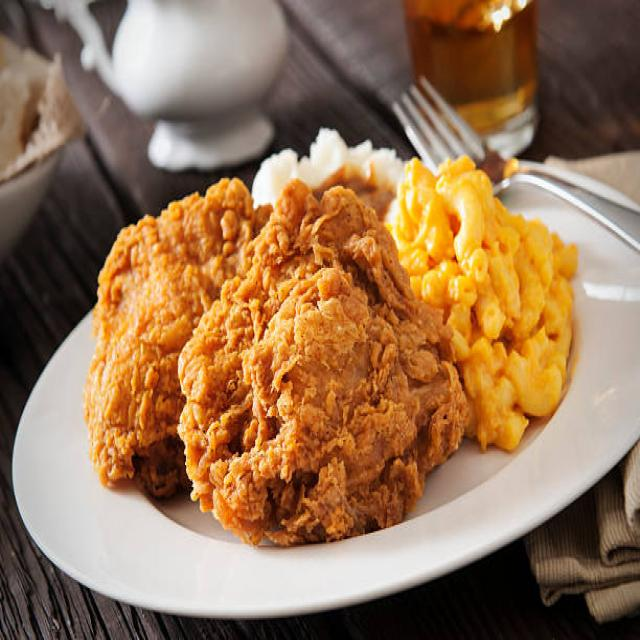Frango: (86, 167, 466, 550)
